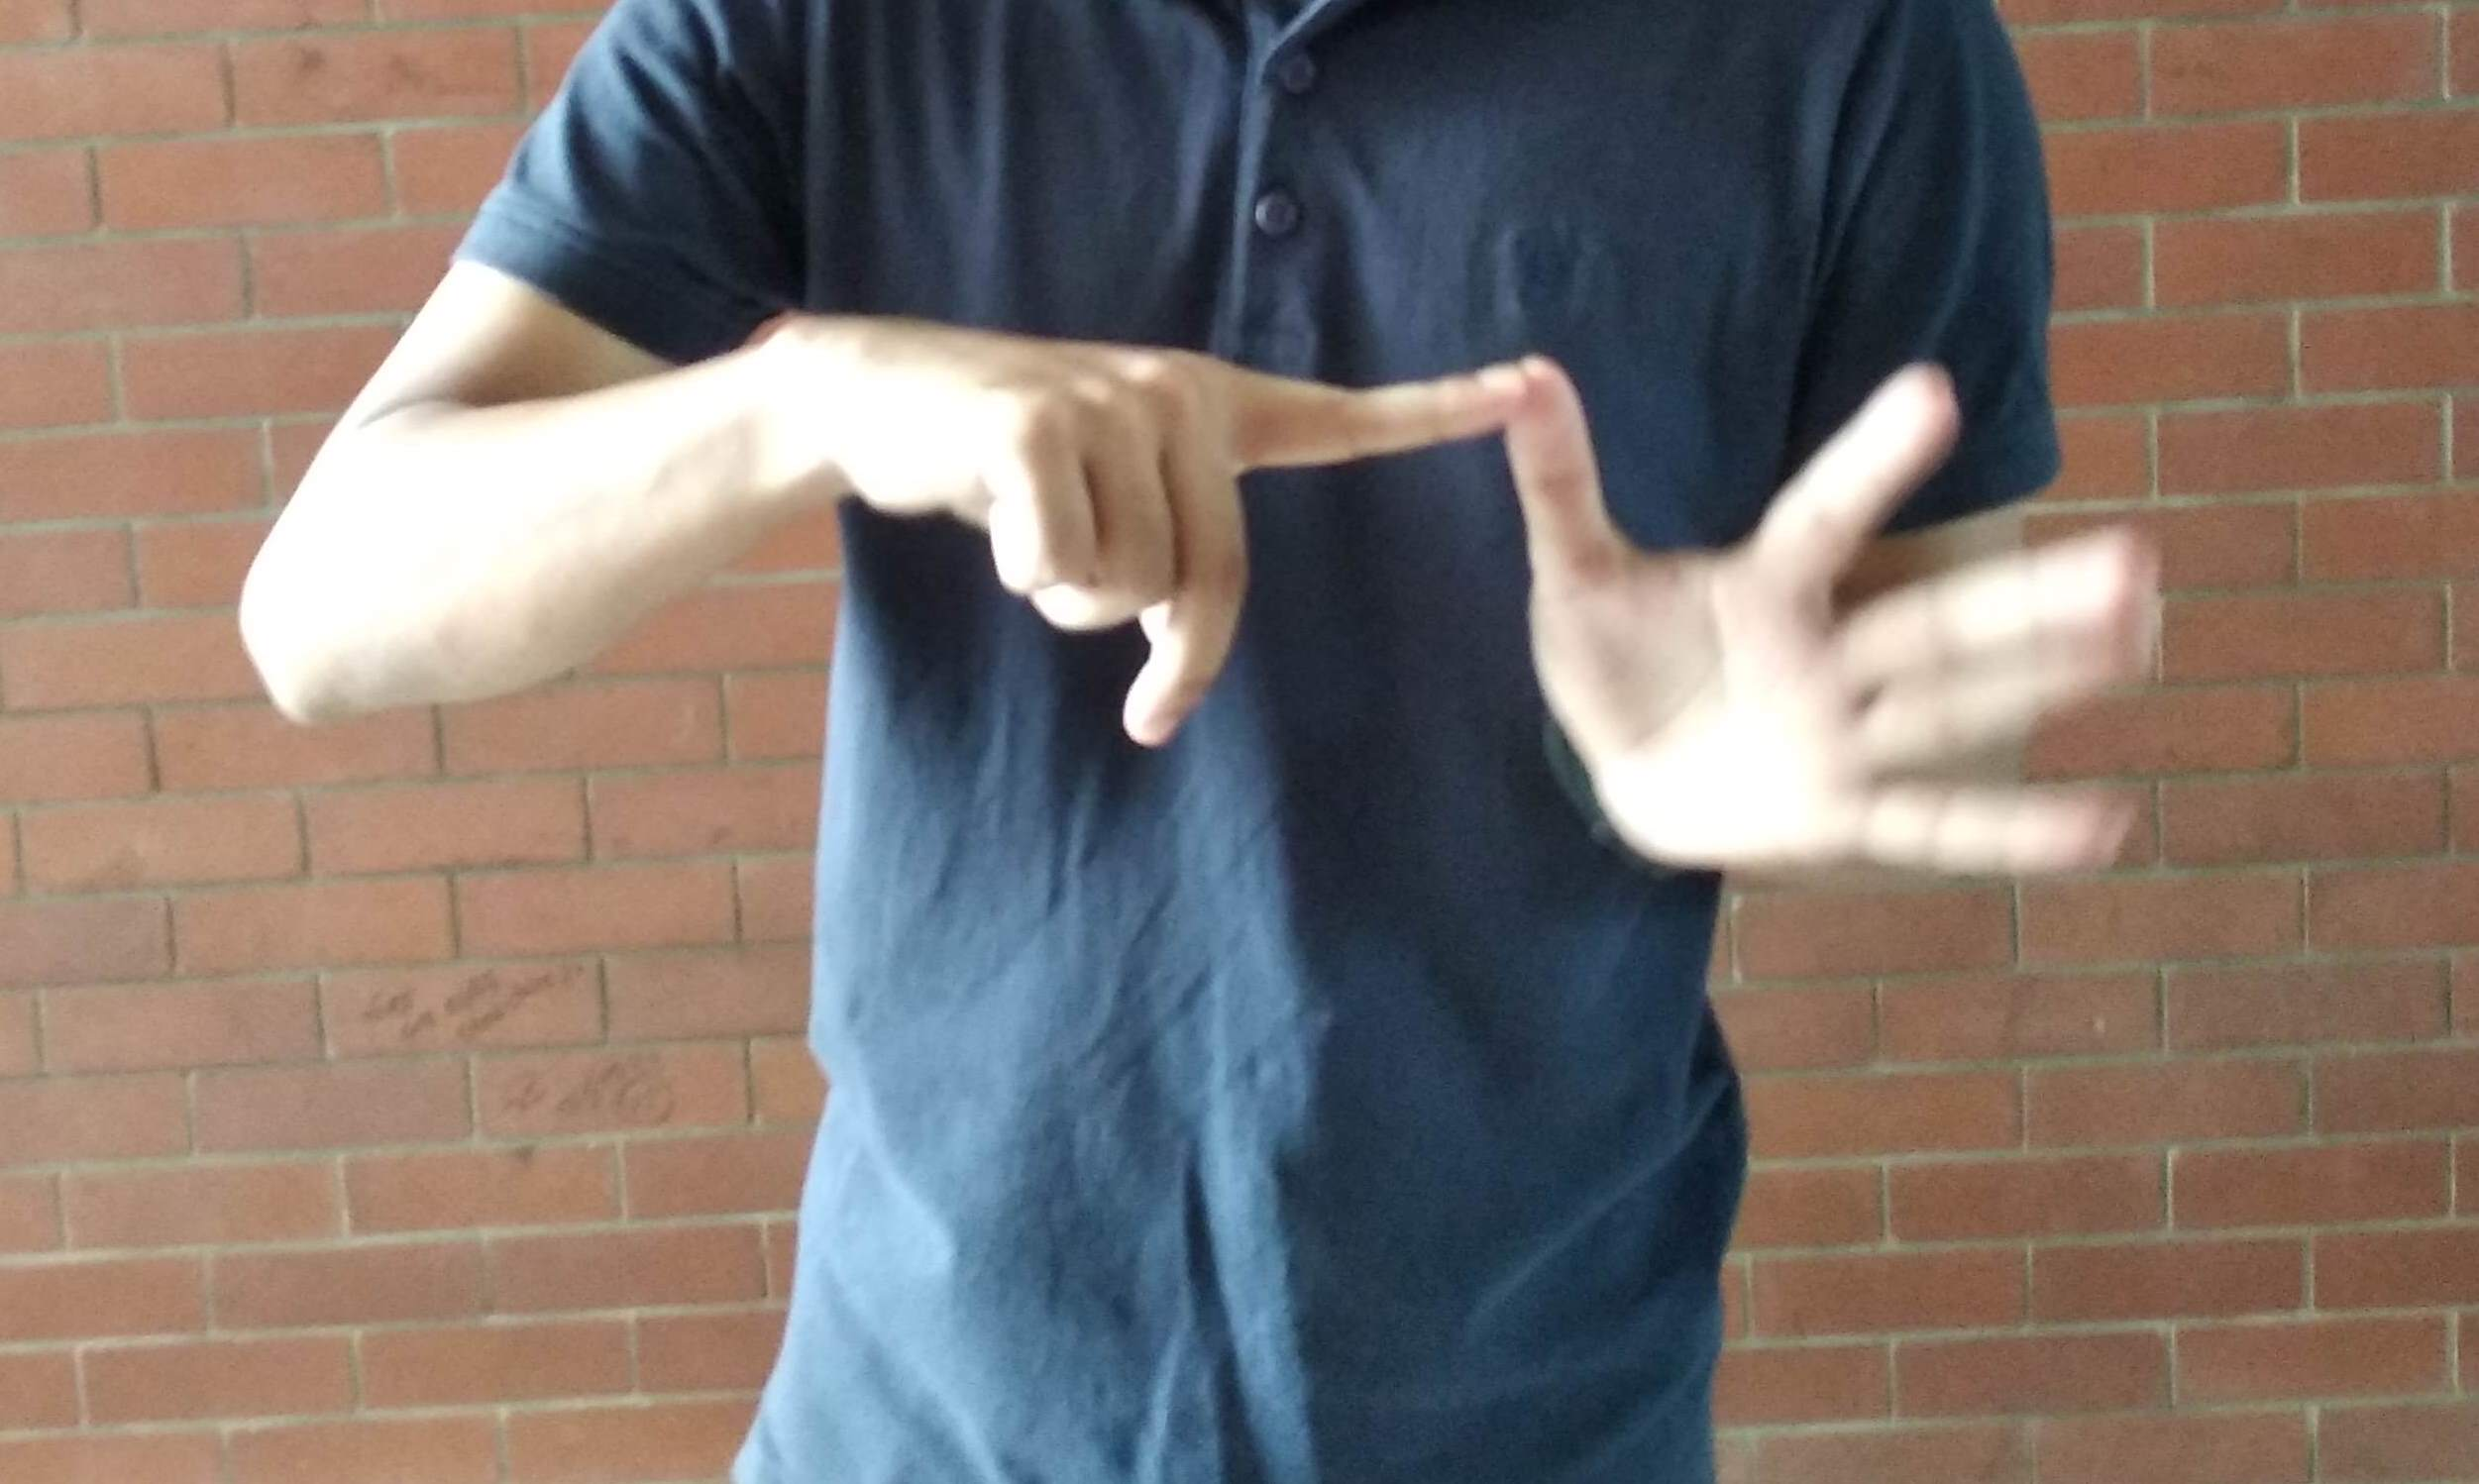a: (968, 293, 2101, 920)
